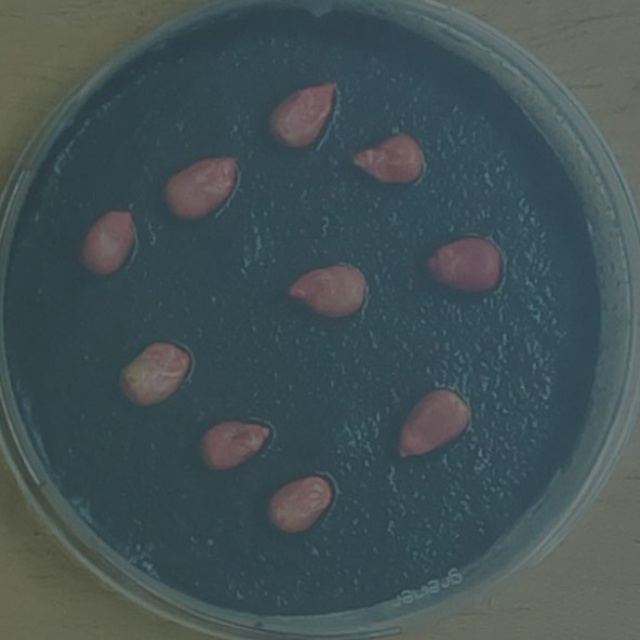Zea mays: (388, 381, 476, 470), (154, 147, 245, 230), (259, 71, 343, 156), (416, 230, 511, 304), (110, 335, 197, 415), (275, 258, 370, 327), (258, 466, 340, 543), (190, 412, 277, 481), (69, 204, 142, 286), (343, 128, 428, 195)
